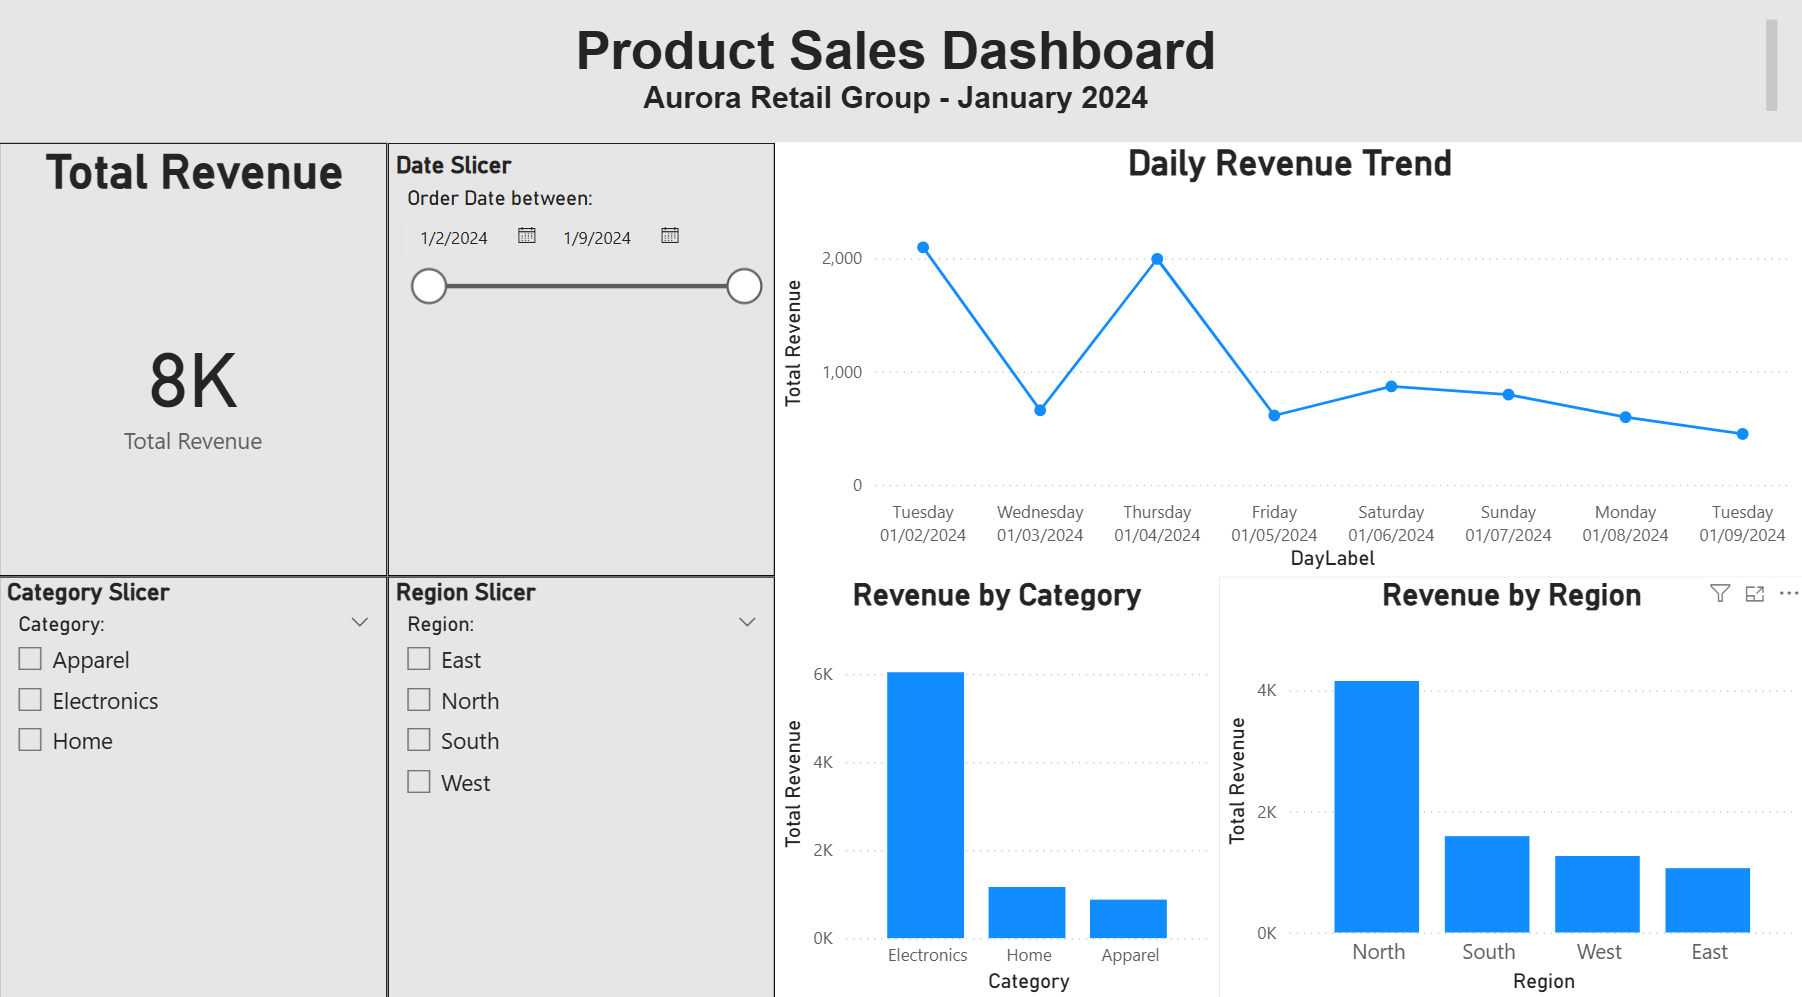

What the dashboard file says about the page in this screenshot:
{"tool":"powerbi","page":{"name":"Page 1","canvas":[1280,720],"ordinal":0},"visuals":[{"type":"card","title":"Total Revenue","fields":{"Values":["public sales_data.Total Revenue"]},"box":[0,112.5,275.5,307.4],"z":0},{"type":"columnChart","title":"Revenue by Region","fields":{"Category":["public sales_data.region"],"Y":["public sales_data.Total Revenue"]},"box":[864.7,419.9,415.5,300.3],"z":1000},{"type":"columnChart","title":"Revenue by Category","fields":{"Category":["public sales_data.category"],"Y":["public sales_data.Total Revenue"]},"box":[550.2,419.9,314.5,300.3],"z":2000},{"type":"lineChart","title":"Daily Revenue Trend","fields":{"Y":["public sales_data.Total Revenue"],"Category":["public sales_data.DayLabel"]},"box":[550.2,112.5,730,307.4],"z":3000},{"type":"slicer","title":"Date Slicer","fields":{"Values":["public sales_data.order_date"]},"box":[275.5,112.5,274.6,307.4],"z":4000},{"type":"slicer","title":"Region Slicer","fields":{"Values":["public sales_data.region"]},"box":[275.5,419.9,274.6,300.3],"z":5000},{"type":"slicer","title":"Category Slicer","fields":{"Values":["public sales_data.category"]},"box":[0,419.9,275.5,300.3],"z":6000},{"type":"shape","box":[0,9.7,1280.2,102.8],"z":7000},{"type":"textbox","box":[13.3,20.4,1251.8,76.2],"z":8000}]}

Visuals, with their boxes in screenshot pixels (x1, y1, x2, y2), scaled from the page's 1280x720 canvas onto the 1802x997 screenshot:
"Total Revenue" card: [left=0, top=156, right=388, bottom=581]
"Revenue by Region" columnChart: [left=1217, top=581, right=1801, bottom=996]
"Revenue by Category" columnChart: [left=775, top=581, right=1217, bottom=996]
"Daily Revenue Trend" lineChart: [left=775, top=156, right=1801, bottom=581]
"Date Slicer" slicer: [left=388, top=156, right=774, bottom=581]
"Region Slicer" slicer: [left=388, top=581, right=774, bottom=996]
"Category Slicer" slicer: [left=0, top=581, right=388, bottom=996]
shape: [left=0, top=13, right=1801, bottom=156]
textbox: [left=19, top=28, right=1781, bottom=134]
